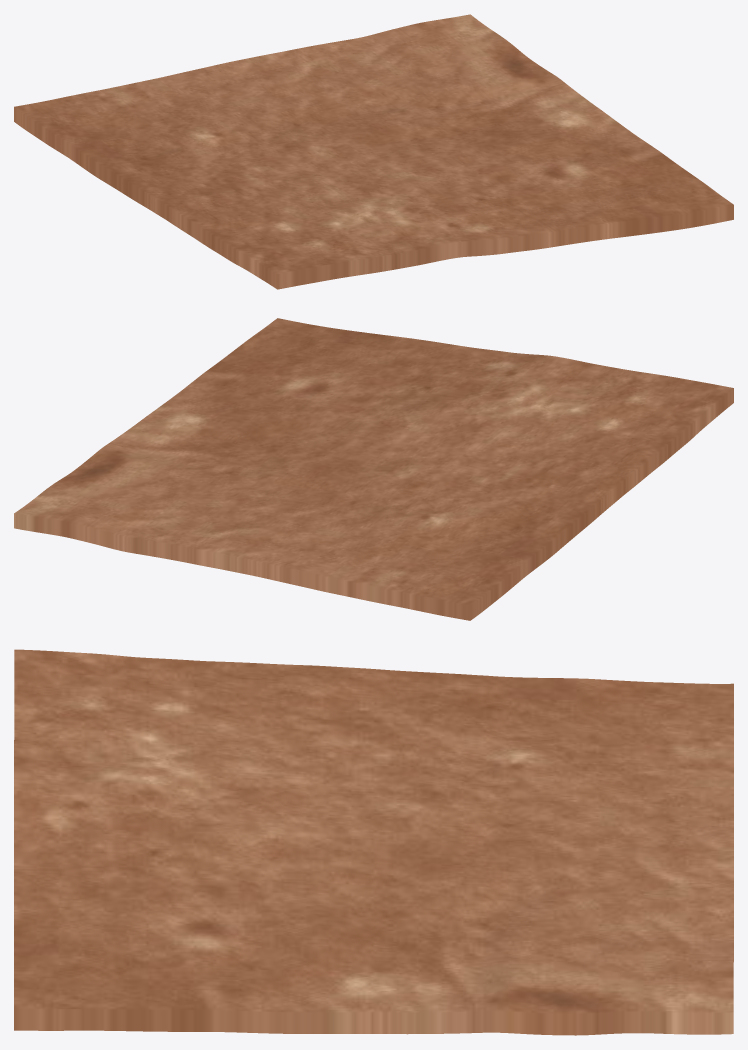
3 renders of one model, top to bottom at view 1: azimuth 30°, elevation 25°; view 2: azimuth 150°, elevation 25°; view 3: azimuth 270°, elevation 25°, orthographic. The views are drawn at different scales.
Parts seen in each view (by area): view 1: L8_88_90; view 2: L8_88_90; view 3: L8_88_90.
Part boxes in pixels (<box>): L8_88_90: <box>14,14,733,289</box>; L8_88_90: <box>14,318,733,620</box>; L8_88_90: <box>14,649,733,1035</box>.
Size of the model in its own units: 56.29 by 7.06 by 56.29.
1 material, 1 textured.
